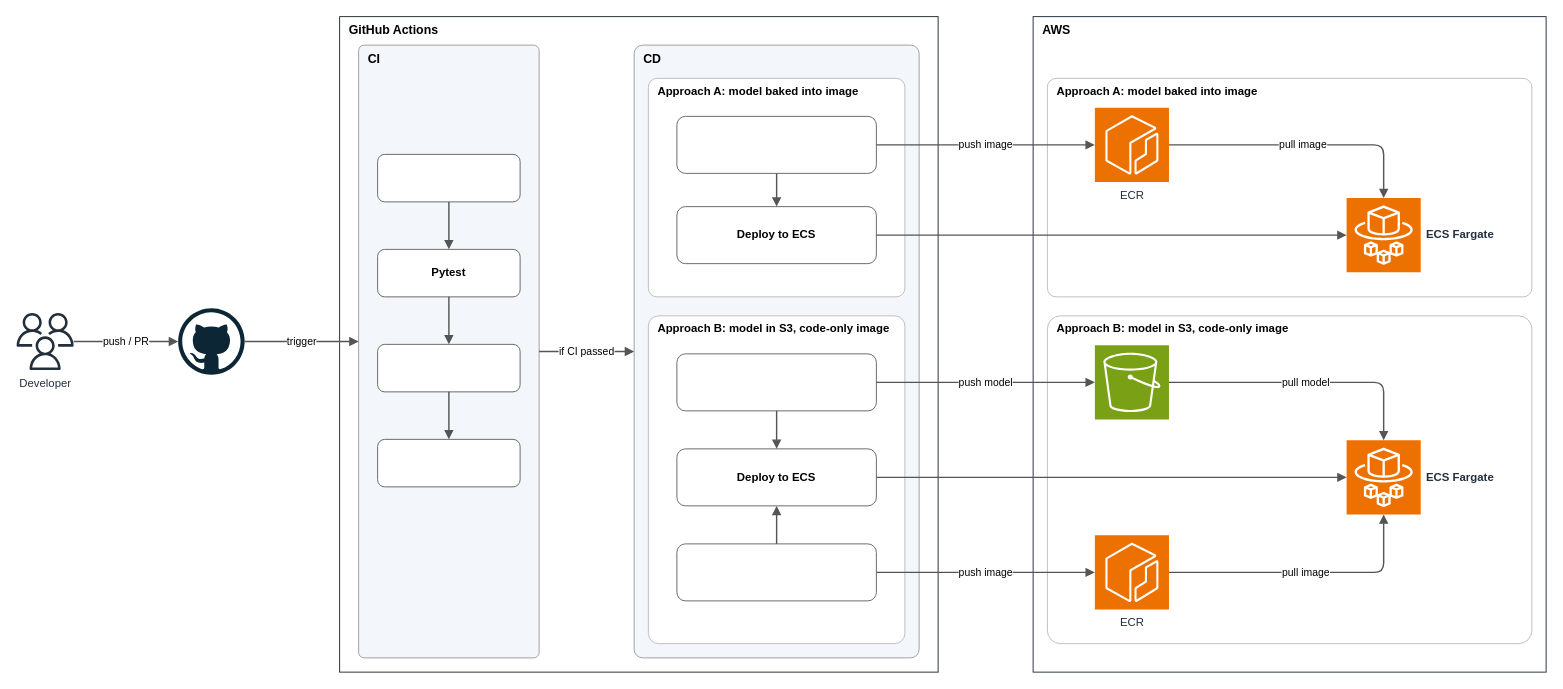
Some shapes in this 1563 by 689 pixel diagram are drawn without their labels. The centre of each missing label's shape, as x and y in pixels:
"Build Code-only Docker Image" goes at point (776, 572).
"Build Docker Image with Model" goes at point (776, 144).
"Evaluate Model" goes at point (448, 462).
"GitHub repo" goes at point (211, 341).
"Lint" goes at point (448, 177).
"S3" goes at point (1131, 381).
"Train Model" goes at point (448, 367).
"Upload Model to S3" goes at point (776, 382).
